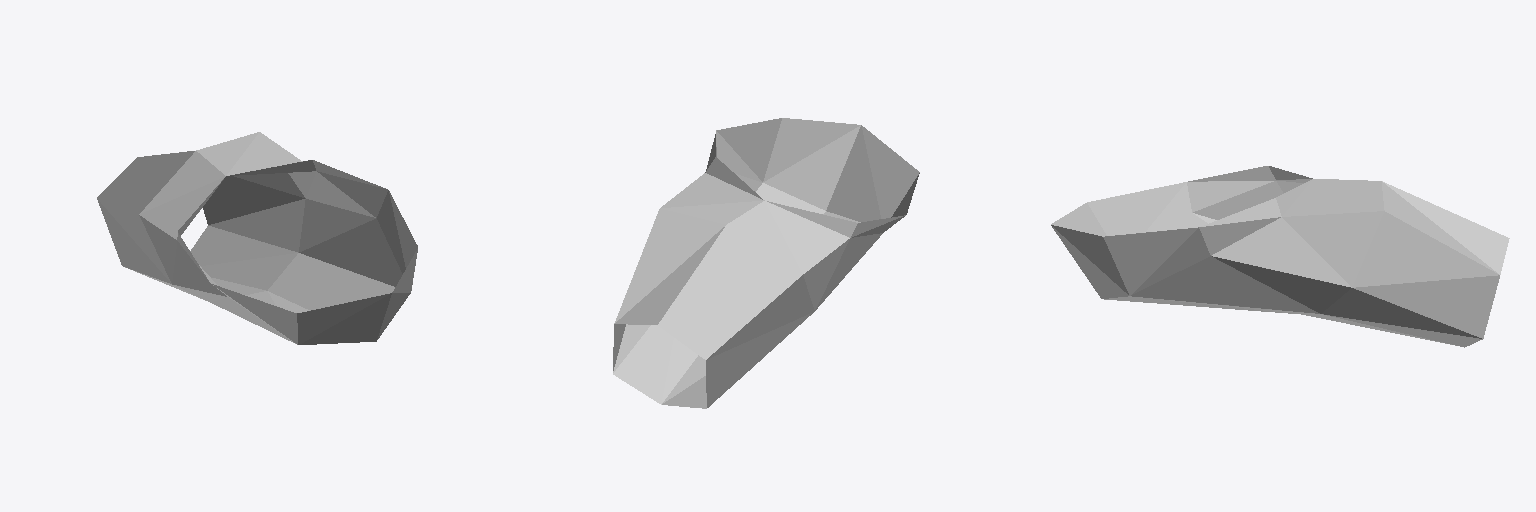
Rendered from PiernaIzquierda.obj.
The picture shows the model from 3 angles: view 1: azimuth 30°, elevation 25°; view 2: azimuth 150°, elevation 25°; view 3: azimuth 270°, elevation 25°; orthographic projection.
Parts seen in each view (by area): view 1: aca.017_aca.020; view 2: aca.017_aca.020; view 3: aca.017_aca.020.
Boxes of the visible parts, box(x1,y1,x2,y2) form: aca.017_aca.020: box(97, 132, 417, 344); aca.017_aca.020: box(613, 118, 919, 408); aca.017_aca.020: box(1051, 166, 1509, 347).
Bounding box in the file's own units: 0.2624 × 0.2305 × 0.5666.